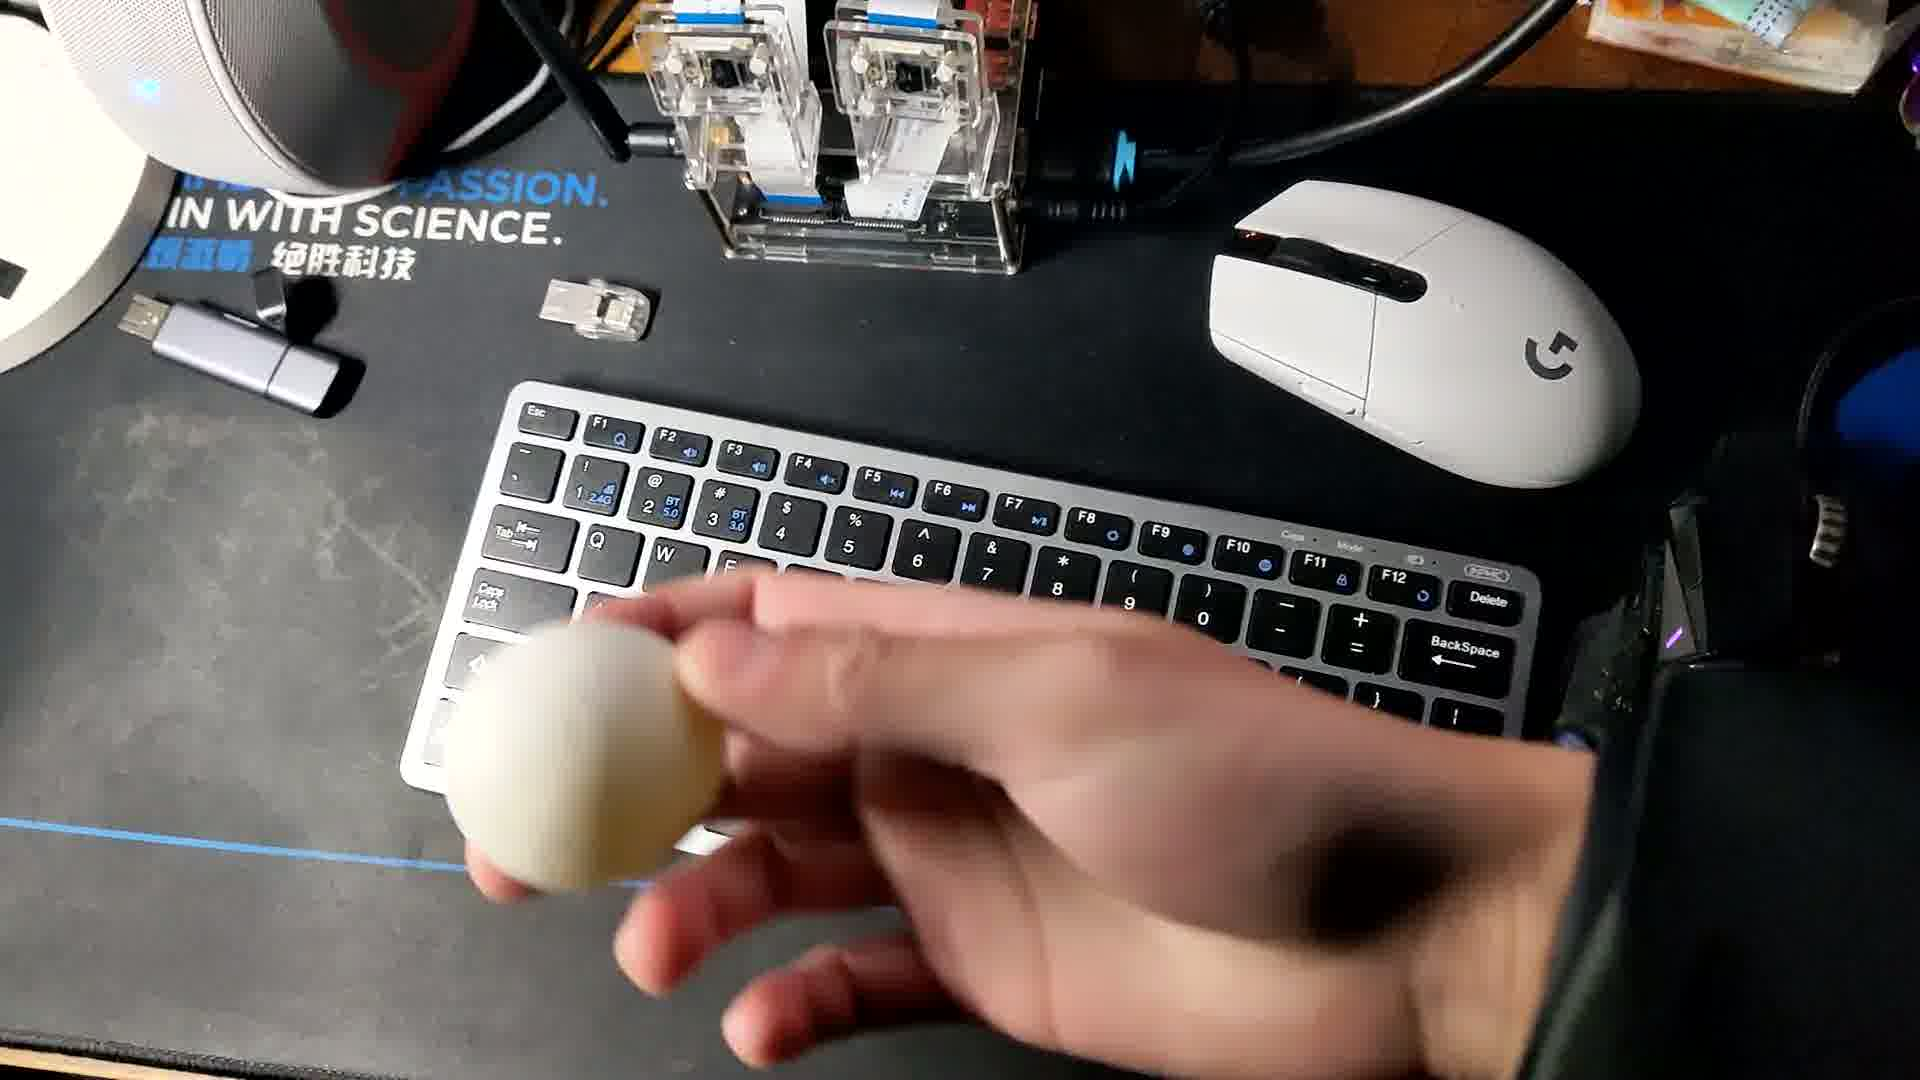Ball: (436, 615, 731, 902)
